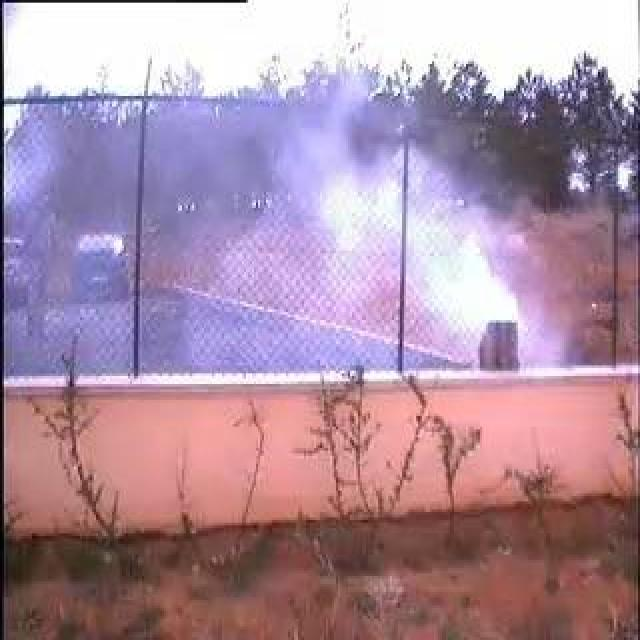Smoke: (107, 108, 531, 367)
